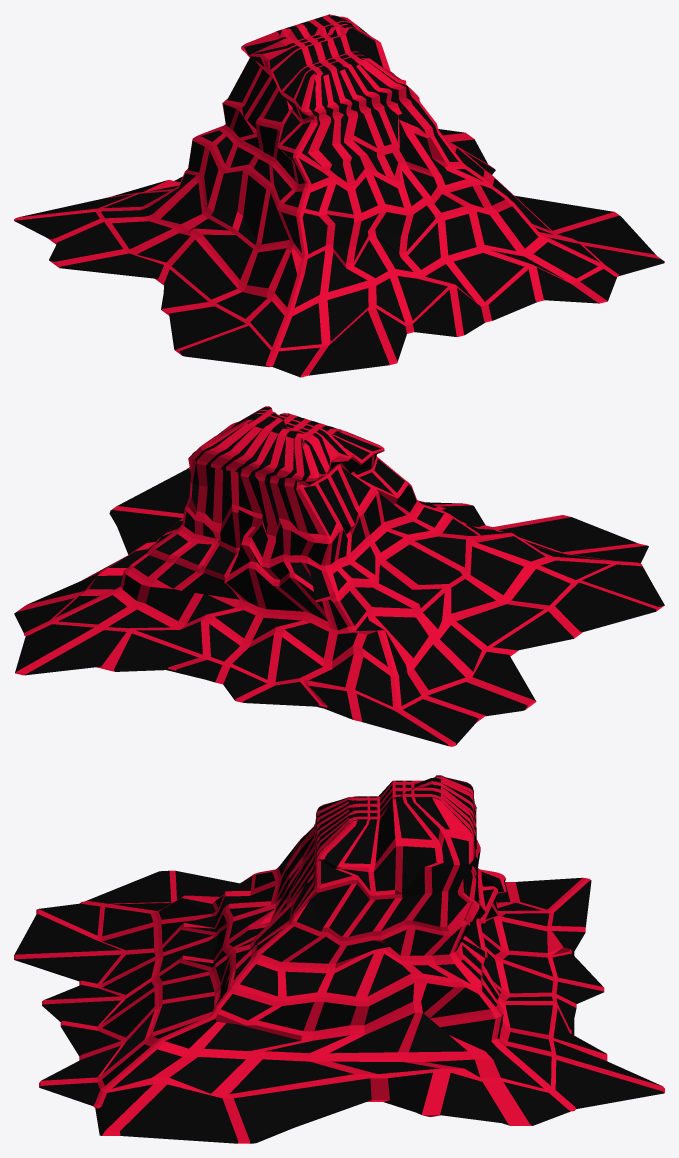
The picture shows the model from 3 angles, top to bottom: view 1: azimuth 30°, elevation 25°; view 2: azimuth 150°, elevation 25°; view 3: azimuth 270°, elevation 25°; orthographic projection. The views are drawn at different scales.
Parts seen in each view (by area): view 1: Cube; view 2: Cube; view 3: Cube.
Part boxes in pixels (x1,y1,x2,y2): Cube: [14, 14, 664, 377]; Cube: [14, 406, 664, 746]; Cube: [14, 775, 664, 1143].
Bounding box in the file's own units: 514 × 199 × 517.
